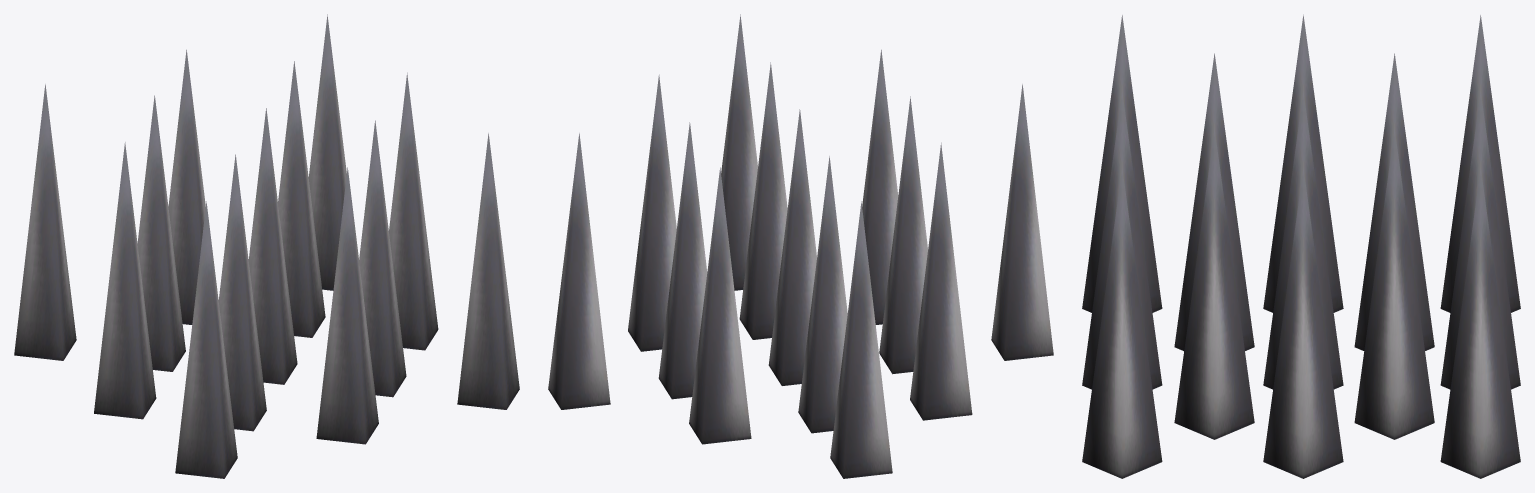
File: cmn_obj_thorn_SD.obj
3 views of the same model, side by side, from view 1: azimuth 30°, elevation 25°; view 2: azimuth 150°, elevation 25°; view 3: azimuth 270°, elevation 25° (orthographic). The views are drawn at different scales.
Parts seen in each view (by area): view 1: polygon0; view 2: polygon0; view 3: polygon0.
Part boxes in pixels (x1,y1,x2,y2): polygon0: [14, 14, 519, 478]; polygon0: [548, 14, 1053, 478]; polygon0: [1082, 14, 1520, 478].
Size of the model in its own units: 14.75 by 10.84 by 14.61.
1 material, 1 textured.
